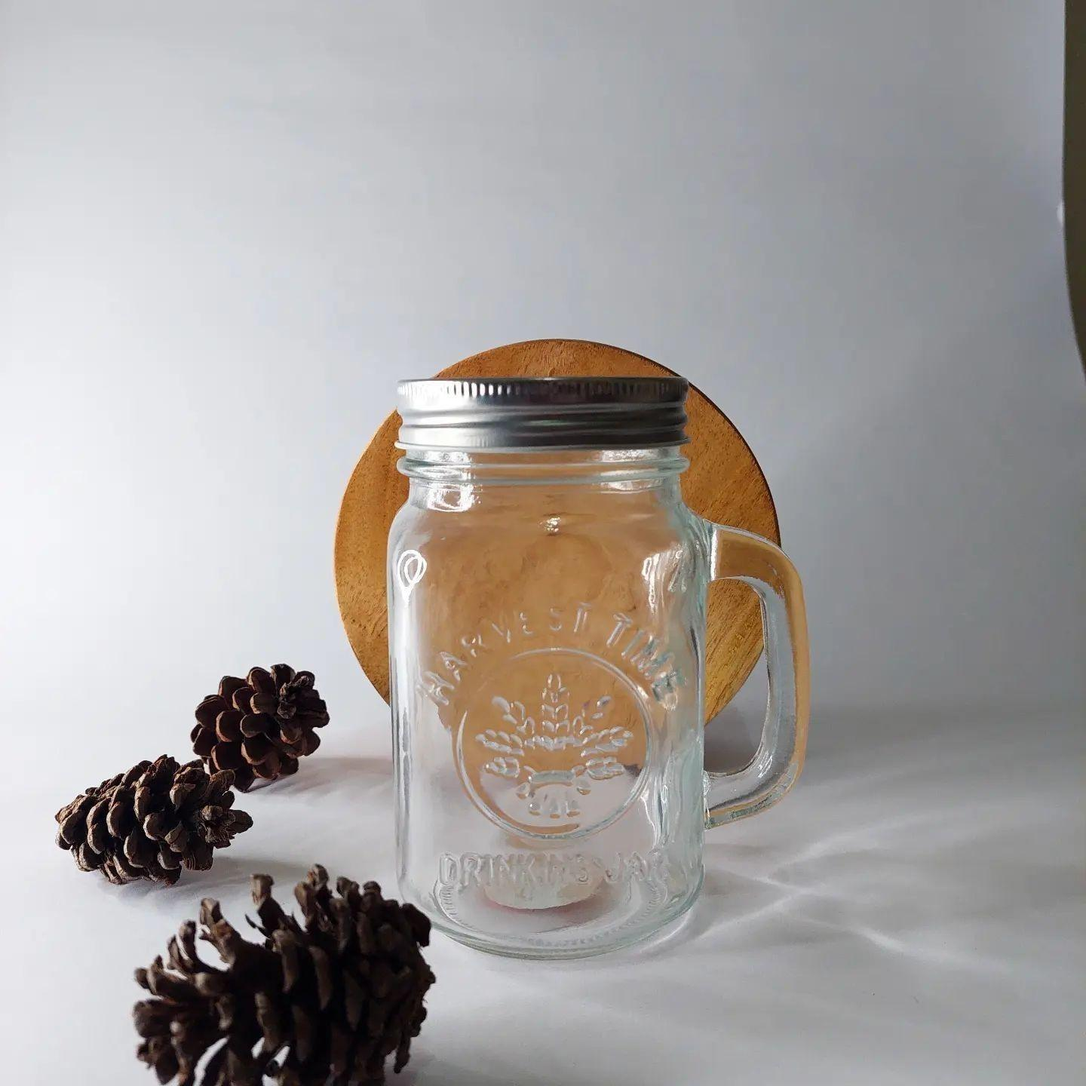glass-mug: (376, 358, 828, 971)
